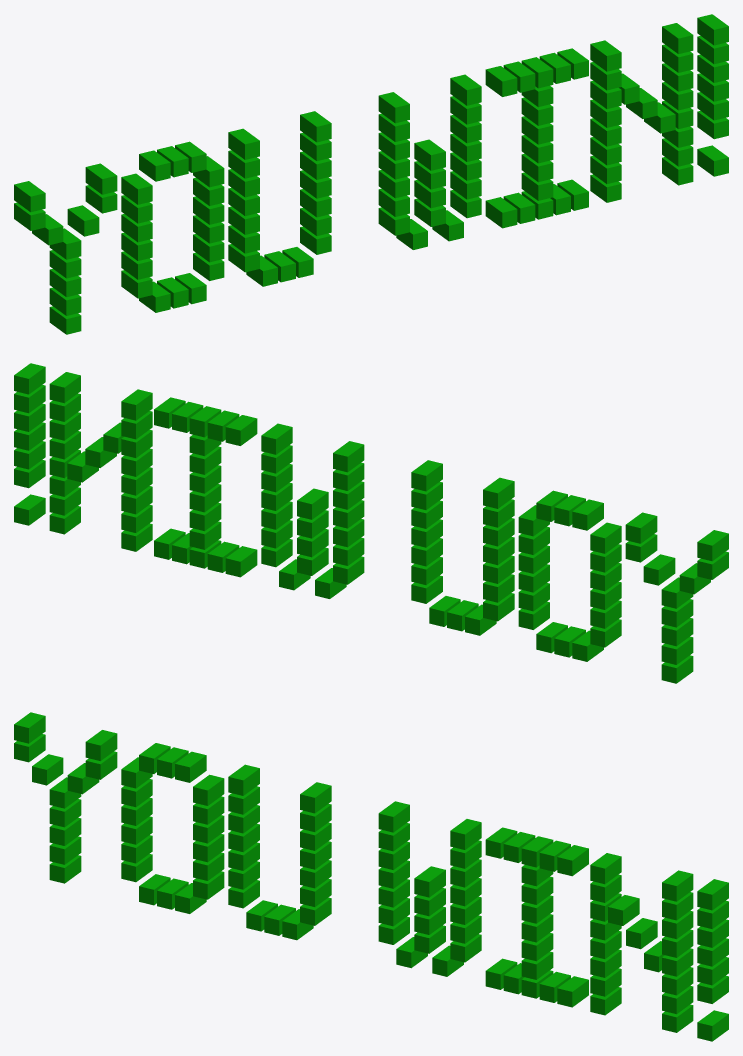
The model's file is You Win!.fbx.
3 views of the same model, one above another, from view 1: azimuth 30°, elevation 25°; view 2: azimuth 150°, elevation 25°; view 3: azimuth 330°, elevation 25° (orthographic).
Visible parts, largest first — view 1: typeMesh1; view 2: typeMesh1; view 3: typeMesh1.
Boxes of the visible parts, <box> form: typeMesh1: <box>14,14,728,334</box>; typeMesh1: <box>14,363,728,683</box>; typeMesh1: <box>14,712,728,1041</box>.
Bounding box in the file's own units: 60.58 × 12.17 × 2.5.
